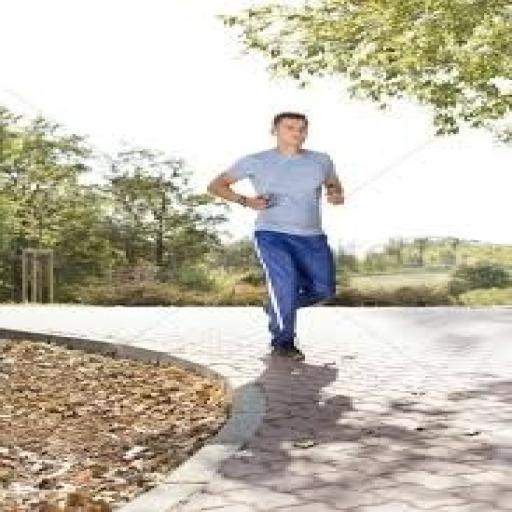listening_to_music: (204, 110, 350, 363)
